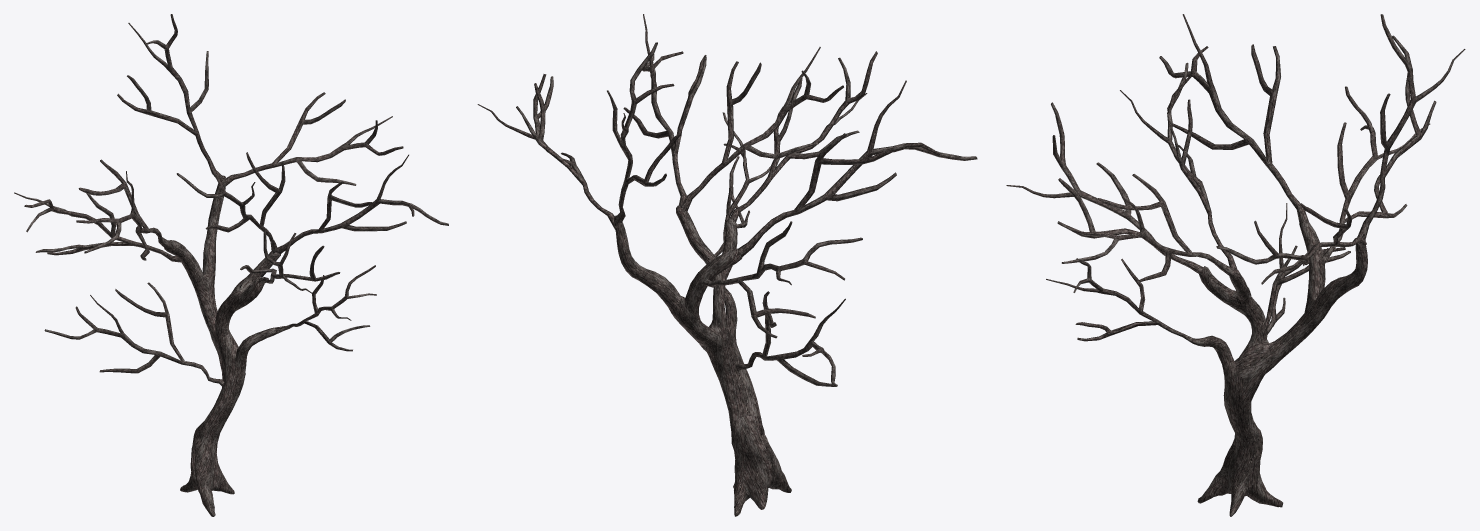
Rendered from lowst.fbx.
3 renders of one model, left to right at view 1: azimuth 30°, elevation 25°; view 2: azimuth 150°, elevation 25°; view 3: azimuth 270°, elevation 25°, orthographic. The views are drawn at different scales.
Visible parts, largest first — view 1: lowst_Mesh_001; view 2: lowst_Mesh_001; view 3: lowst_Mesh_001.
Part boxes in pixels (x1,y1,x2,y2): lowst_Mesh_001: (14,14,448,516); lowst_Mesh_001: (477,14,977,516); lowst_Mesh_001: (1006,14,1465,516).
Size of the model in its own units: 938 by 1057 by 864.
